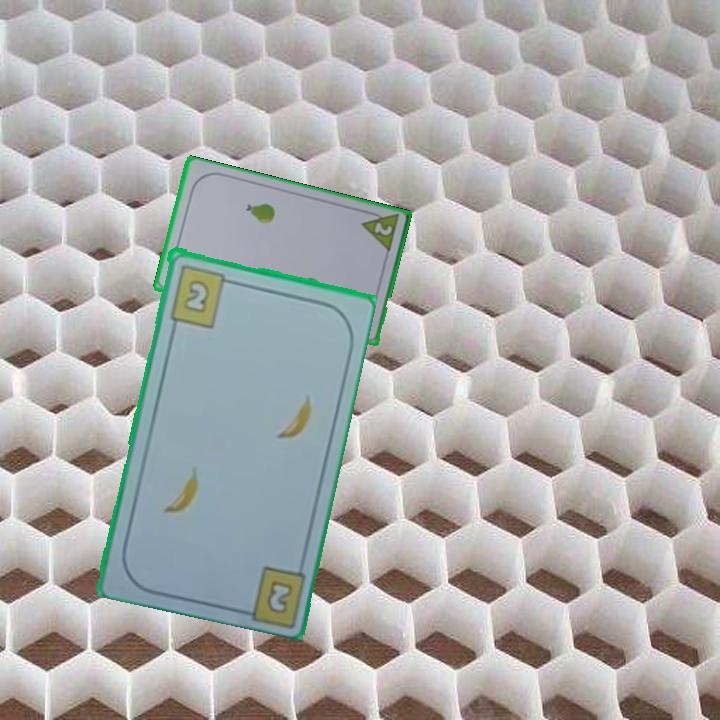2b: (165, 260, 236, 330), (262, 576, 296, 617)
2p: (358, 207, 401, 256)
